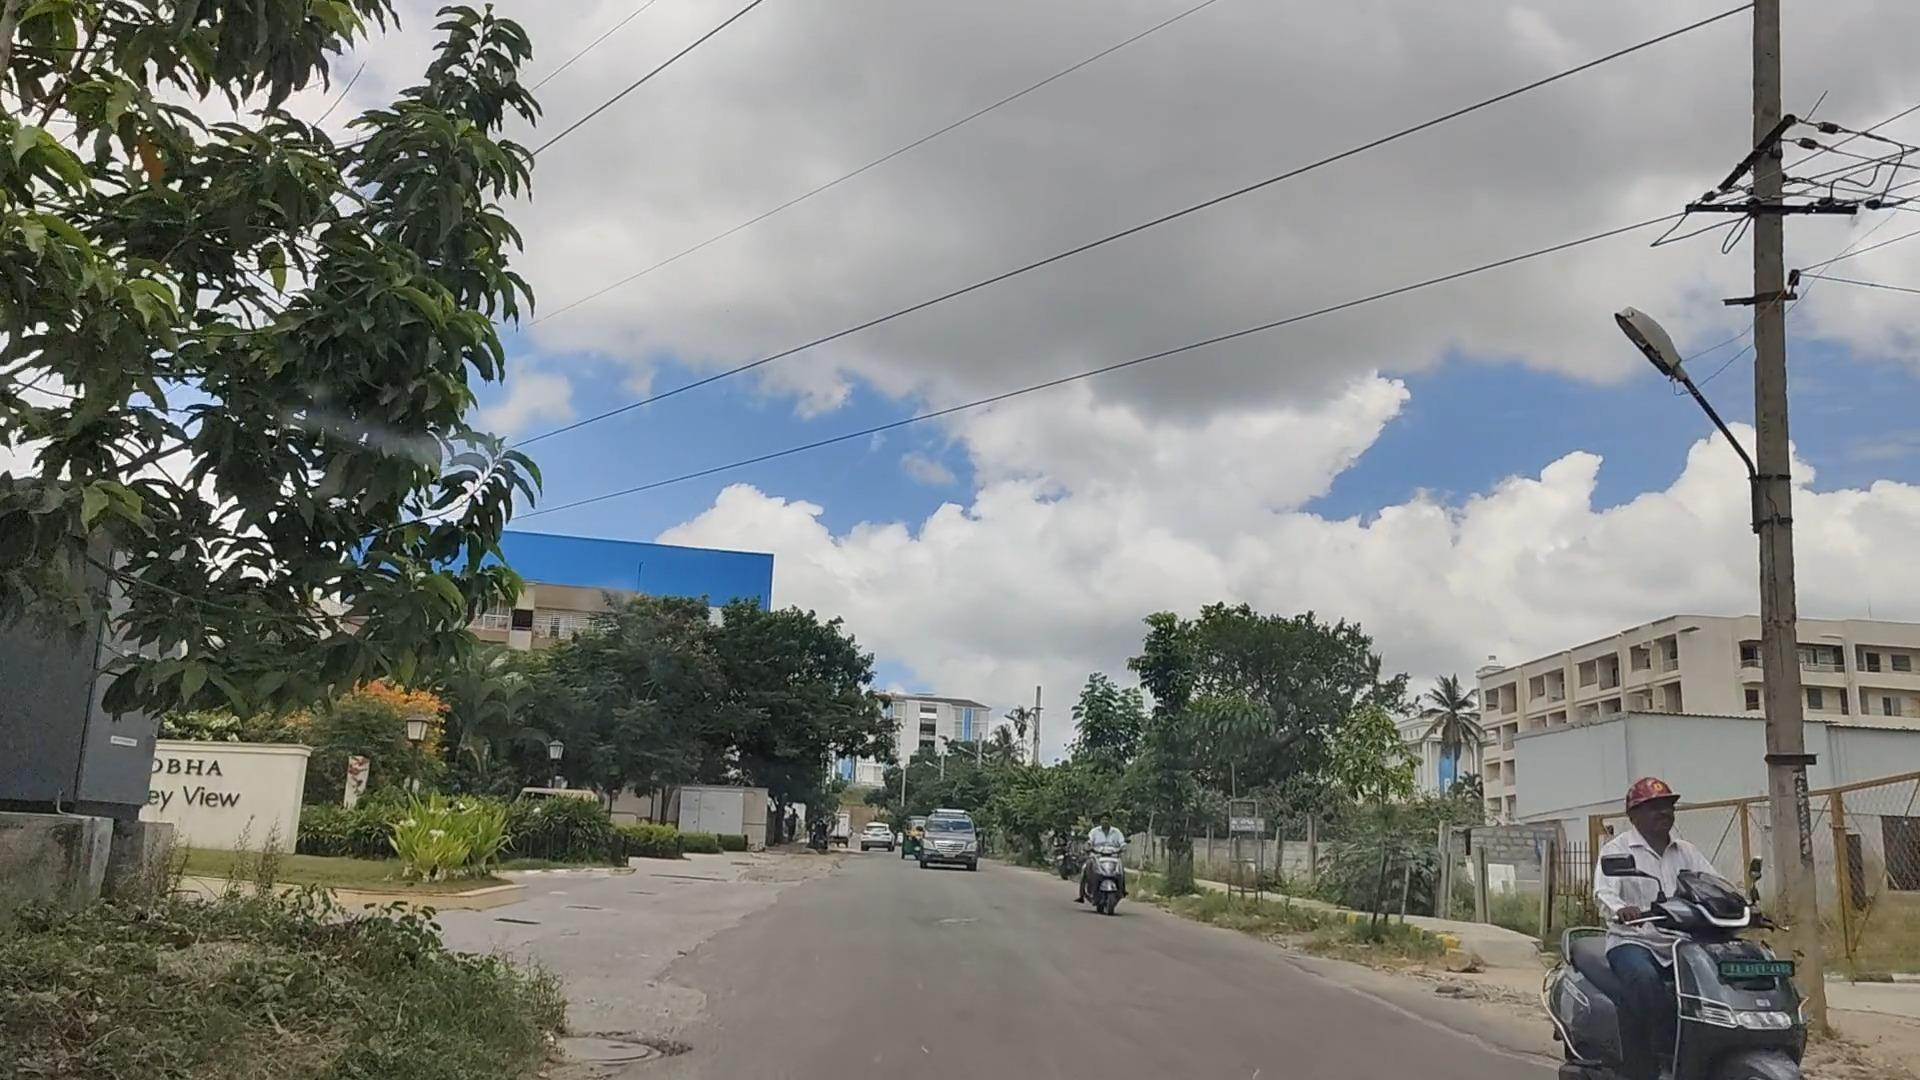RoadDamages: (633, 918, 825, 1029), (554, 1010, 744, 1080), (916, 897, 1059, 984)
